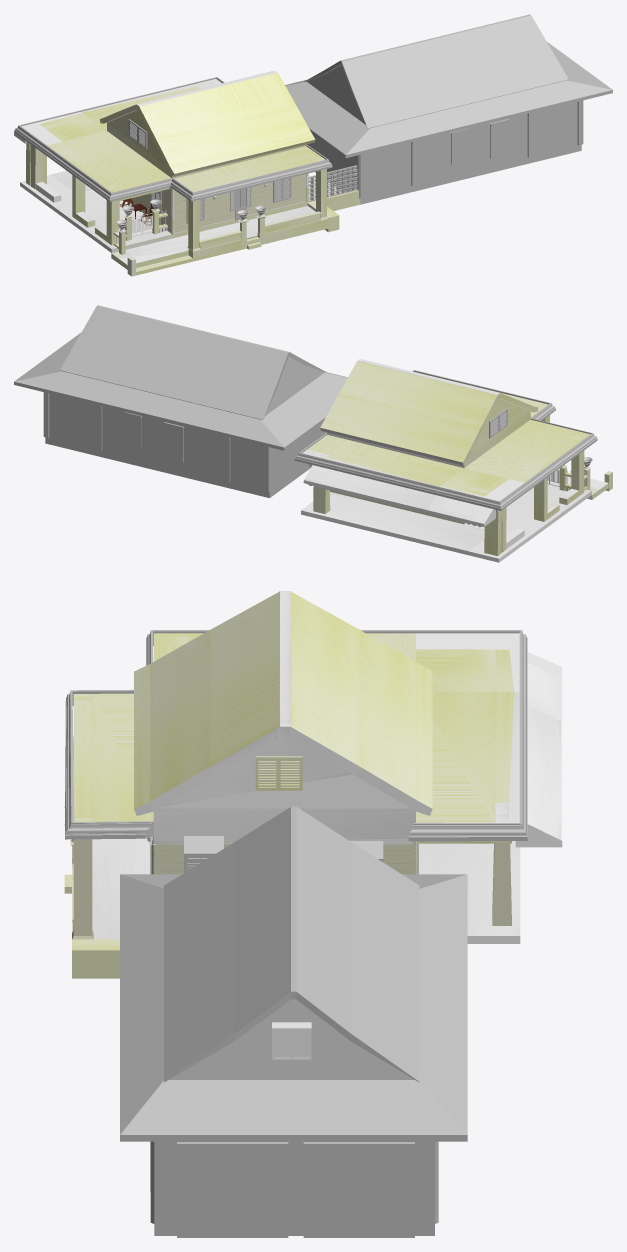
File: casa_4 (1).fbx
3 renders of one model, top to bottom at view 1: azimuth 30°, elevation 25°; view 2: azimuth 150°, elevation 25°; view 3: azimuth 270°, elevation 25°, orthographic. The views are drawn at different scales.
Parts seen in each view (by area): view 1: casa delantera, casa trasera, Cube.001, puerta lisa.004, puerta lisa.005, puerta lisa.007, serca.001, puerta lisa.006, Plane.008, Plane.009, ventana peq de pali.001; view 2: casa delantera, casa trasera, Cube.001, puerta lisa.003, puerta lisa.002, puerta lisa.009, puerta lisa.008; view 3: casa delantera, casa trasera, Cube.004, Cube.005, Cube.001, ventana peq de pali, ventana.
Boxes of the visible parts, x1,y1,x2,y2 form: casa delantera: (14, 70, 360, 276); casa trasera: (285, 14, 612, 204); Cube.001: (14, 77, 332, 201); puerta lisa.004: (411, 136, 434, 186); puerta lisa.005: (527, 108, 550, 157); puerta lisa.007: (489, 119, 509, 158); serca.001: (332, 165, 357, 195); puerta lisa.006: (450, 128, 468, 164); Plane.008: (230, 187, 251, 220); Plane.009: (273, 177, 291, 202); ventana peq de pali.001: (128, 119, 147, 149); casa delantera: (301, 359, 612, 562); casa trasera: (14, 305, 347, 497); Cube.001: (294, 370, 597, 510); puerta lisa.003: (207, 432, 230, 482); puerta lisa.002: (79, 401, 102, 450); puerta lisa.009: (164, 422, 184, 462); puerta lisa.008: (124, 412, 142, 448); casa delantera: (64, 591, 562, 978); casa trasera: (120, 806, 467, 1235); Cube.004: (177, 1142, 288, 1237); Cube.005: (303, 1142, 414, 1237); Cube.001: (65, 630, 527, 841); ventana peq de pali: (255, 756, 302, 790); ventana: (272, 1022, 311, 1060).
Size of the model in its own units: 19435 by 4554 by 8425.
